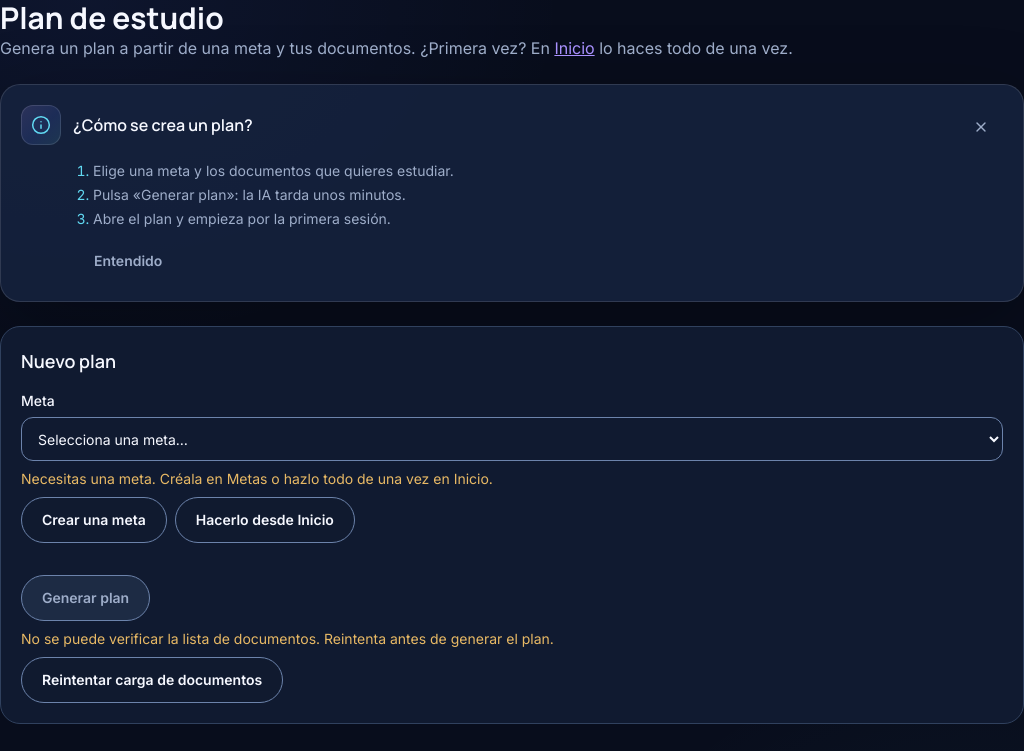
PlanPage generation › shows an empty state only after a successful document-list response
Expected: the message shows "No se puede verificar la lista de documentos", [21,630,554,647]
Expected: the text "aún no tienes documentos listos" is not shown
Click the button "Reintentar carga de documentos".
click(152, 680)  # box [21,657,283,703]
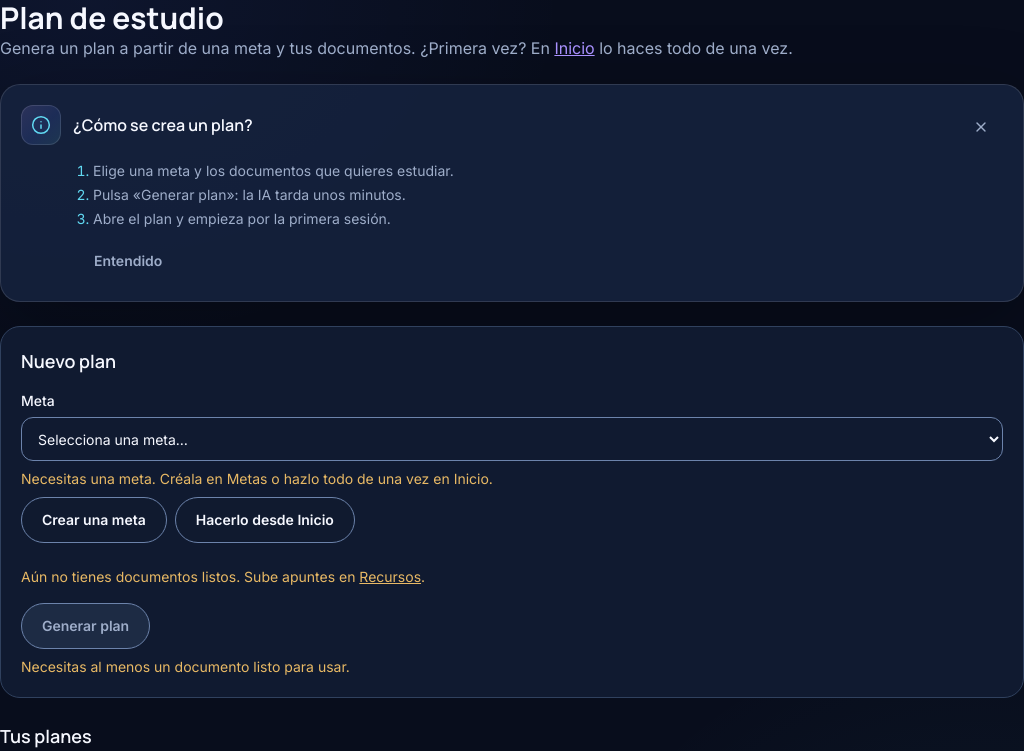
Expected: the button "Generar plan" is disabled, [21,603,150,649]
Expected: the text "Aún no tienes documentos listos. Sube apuntes en Recursos ." is shown, [21,568,425,585]
Expected: the button "Reintentar carga de documentos" is gone
